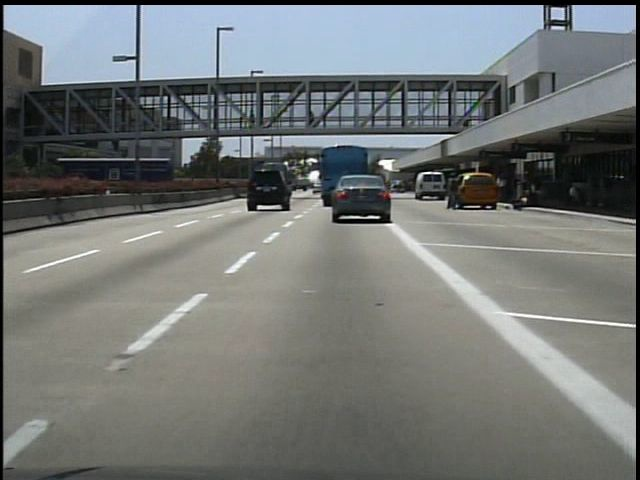person: (445, 175, 464, 216), (243, 106, 259, 130), (305, 109, 319, 136)
